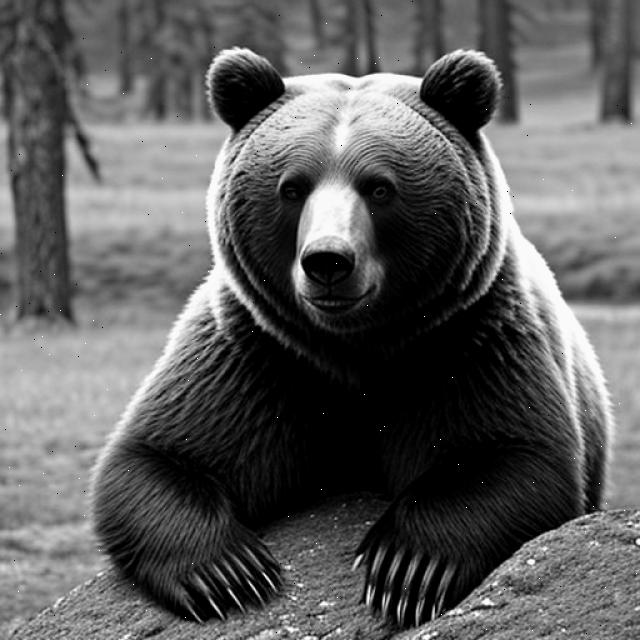bear: (180, 34, 527, 378)
